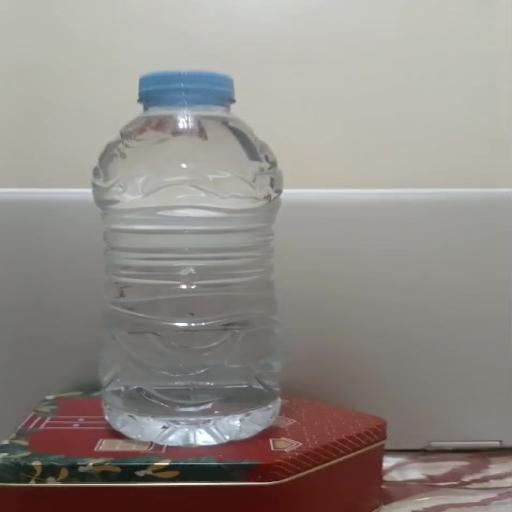bouteille non conformite: (72, 66, 336, 442)
